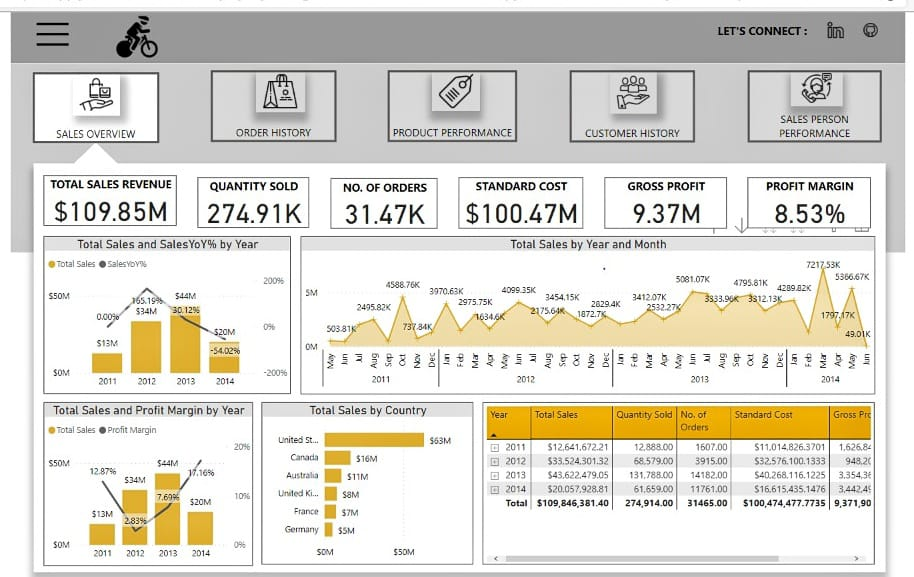

What the dashboard file says about the page in this screenshot:
{"tool":"powerbi","page":{"name":"SALES OVERVIEW","canvas":[1280,820],"ordinal":0},"visuals":[{"type":"shape","box":[0,0,1280.7,72.9],"z":0},{"type":"group","id":"g1","title":"Group 3","box":[287,82.5,179.8,104.1],"z":0,"group":"g10"},{"type":"actionButton","box":[540.7,83.3,185.5,102.9],"z":0,"group":"g5"},{"type":"actionButton","box":[287,83.6,179.8,103],"z":0,"group":"g1"},{"type":"group","id":"g2","title":"Group 5","box":[801.1,83.6,179.7,103.2],"z":0,"group":"g9"},{"type":"actionButton","box":[801.1,83.6,179.7,103.2],"z":0,"group":"g2"},{"type":"actionButton","box":[1054.8,83.7,192.1,103.2],"z":0,"group":"g8"},{"type":"group","id":"g3","title":"Group 2","box":[32,85.6,181,101],"z":0,"group":"g7"},{"type":"group","id":"g4","title":"Group 6","box":[32,85.6,181,101],"z":0,"group":"g3"},{"type":"actionButton","box":[32,85.6,181,101],"z":0,"group":"g4"},{"type":"actionButton","box":[628.8,94.8,192.1,103.2],"z":0,"group":"g6"},{"type":"image","box":[1115.9,81.8,74.8,53],"z":1000,"group":"g8"},{"type":"image","box":[351,82.5,71.1,62.3],"z":1000,"group":"g1"},{"type":"group","id":"g5","title":"Group 4","box":[540.7,82.8,185.5,103.4],"z":1000,"group":"g10"},{"type":"image","box":[603.4,82.8,69.4,58.7],"z":1000,"group":"g5"},{"type":"image","box":[858,83.6,67.6,62.3],"z":1000,"group":"g9"},{"type":"image","box":[88.9,87.7,67.6,60.5],"z":1000,"group":"g3"},{"type":"group","id":"g6","title":"Group 1","box":[628.8,92.9,192.1,105.1],"z":1000},{"type":"image","box":[689.9,92.9,74.8,53],"z":1000,"group":"g6"},{"type":"shape","box":[0,72.9,1280.7,270.4],"z":2000},{"type":"group","id":"g7","title":"Group 13","box":[32,85.6,181,101],"z":2000,"group":"g10"},{"type":"group","id":"g8","title":"Group 1","box":[1054.8,81.8,192.1,104.9],"z":3000,"group":"g10"},{"type":"shape","box":[32.7,215.8,1219.5,585.2],"z":3000},{"type":"group","id":"g9","title":"Group 7","box":[801.1,83.6,179.7,103.2],"z":4000,"group":"g10"},{"type":"shape","box":[68.7,186.4,106.3,50.7],"z":4000},{"type":"image","box":[28.5,0,62.3,62.3],"z":5000},{"type":"image","box":[1208.7,10.6,42.3,30.4],"z":6000},{"type":"image","box":[1161.1,7.9,39.6,33],"z":7000},{"type":"image","box":[124.5,0,112.1,69.4],"z":8000},{"type":"textbox","box":[990.8,10.7,170.8,32],"z":9000},{"type":"areaChart","title":"Total Sales by Year and Month","fields":{"Category":["Calendar.Date.Variation.Date Hierarchy.Year","Calendar.Month"],"Y":["Sum(FactSales.SalesTotal)"]},"box":[414.4,320.2,821.8,225.9],"z":10000},{"type":"card","title":"NO. OF ORDERS","fields":{"Values":["MetricMeasures.Total No. of Orders"]},"box":[457.7,237,152.8,71.7],"z":12000},{"type":"card","title":"QUANTITY SOLD","fields":{"Values":["MetricMeasures.Total Quantity"]},"box":[267.8,235.4,159,71.7],"z":13000},{"type":"card","title":"TOTAL SALES REVENUE","fields":{"Values":["MetricMeasures.Total Sales"]},"box":[46.8,233.9,190.2,71.7],"z":14000},{"type":"card","title":"GROSS PROFIT","fields":{"Values":["MetricMeasures.Total Profit"]},"box":[850,235.4,174.6,73.3],"z":16000},{"type":"card","title":"STANDARD COST","fields":{"Values":["MetricMeasures.Total Standard COst"]},"box":[641.4,235.4,177.7,73.3],"z":17000},{"type":"card","title":"PROFIT MARGIN","fields":{"Values":["MetricMeasures.Total Profit Margin"]},"box":[1054.8,236.6,176.1,72.9],"z":18000},{"type":"lineStackedColumnComboChart","title":"Total Sales and SalesYoY% by Year","fields":{"Category":["Calendar.Date.Variation.Date Hierarchy.Year"],"Y":["MetricMeasures.Total Sales"],"Y2":["MetricMeasures.Total SalesYoY%"]},"box":[47.4,320.4,353.1,225.6],"z":19000},{"type":"pivotTable","fields":{"Rows":["Calendar.Date.Variation.Date Hierarchy.Year","Calendar.Date.Variation.Date Hierarchy.Month"],"Values":["MetricMeasures.Total Sales","MetricMeasures.Total Quantity","MetricMeasures.Total No. of Orders","MetricMeasures.Total Standard COst","MetricMeasures.Total Profit","MetricMeasures.Total Profit Margin"]},"box":[675.1,557.4,560.7,232.1],"z":20000},{"type":"clusteredBarChart","title":"Total Sales by Country","fields":{"Category":["DimTerritory.CountryName"],"Y":["MetricMeasures.Total Sales"]},"box":[359.6,557.4,302.4,232.1],"z":21000},{"type":"lineStackedColumnComboChart","title":"Total Sales and Profit Margin by Year","fields":{"Category":["Calendar.Date.Variation.Date Hierarchy.Year"],"Y":["MetricMeasures.Total Sales"],"Y2":["MetricMeasures.Total Profit Margin"]},"box":[47.4,557.4,299.2,233.8],"z":22000},{"type":"image","box":[90.7,87.2,67.6,51.6],"z":23000},{"type":"group","id":"g10","title":"Group 14","box":[32,81.8,1214.9,104.9],"z":24000}]}

Visuals, with their boxes in screenshot pixels (x1, y1, x2, y2), scaled from the page's 1280x820 canvas onto the 914x577 screenshot:
shape: locate(0, 0, 913, 51)
"Group 3" group: locate(205, 58, 333, 131)
actionButton: locate(386, 59, 519, 131)
actionButton: locate(205, 59, 333, 131)
"Group 5" group: locate(572, 59, 700, 131)
actionButton: locate(572, 59, 700, 131)
actionButton: locate(753, 59, 890, 132)
"Group 2" group: locate(23, 60, 152, 131)
"Group 6" group: locate(23, 60, 152, 131)
actionButton: locate(23, 60, 152, 131)
actionButton: locate(449, 67, 586, 139)
image: locate(797, 58, 850, 95)
image: locate(251, 58, 301, 102)
"Group 4" group: locate(386, 58, 519, 131)
image: locate(431, 58, 480, 100)
image: locate(613, 59, 661, 103)
image: locate(63, 62, 112, 104)
"Group 1" group: locate(449, 65, 586, 139)
image: locate(493, 65, 546, 103)
shape: locate(0, 51, 913, 242)
"Group 13" group: locate(23, 60, 152, 131)
"Group 1" group: locate(753, 58, 890, 131)
shape: locate(23, 152, 894, 564)
"Group 7" group: locate(572, 59, 700, 131)
shape: locate(49, 131, 125, 167)
image: locate(20, 0, 65, 44)
image: locate(863, 7, 893, 29)
image: locate(829, 6, 857, 29)
image: locate(89, 0, 169, 49)
textbox: locate(707, 8, 829, 30)
"Total Sales by Year and Month" areaChart: locate(296, 225, 883, 384)
"NO. OF ORDERS" card: locate(327, 167, 436, 217)
"QUANTITY SOLD" card: locate(191, 166, 305, 216)
"TOTAL SALES REVENUE" card: locate(33, 165, 169, 215)
"GROSS PROFIT" card: locate(607, 166, 732, 217)
"STANDARD COST" card: locate(458, 166, 585, 217)
"PROFIT MARGIN" card: locate(753, 166, 879, 218)
"Total Sales and SalesYoY% by Year" lineStackedColumnComboChart: locate(34, 225, 286, 384)
pivotTable - Calendar.Date.Variation.Date Hierarchy.Year x Calendar.Date.Variation.Date Hierarchy.Month: locate(482, 392, 882, 556)
"Total Sales by Country" clusteredBarChart: locate(257, 392, 473, 556)
"Total Sales and Profit Margin by Year" lineStackedColumnComboChart: locate(34, 392, 247, 557)
image: locate(65, 61, 113, 98)
"Group 14" group: locate(23, 58, 890, 131)
